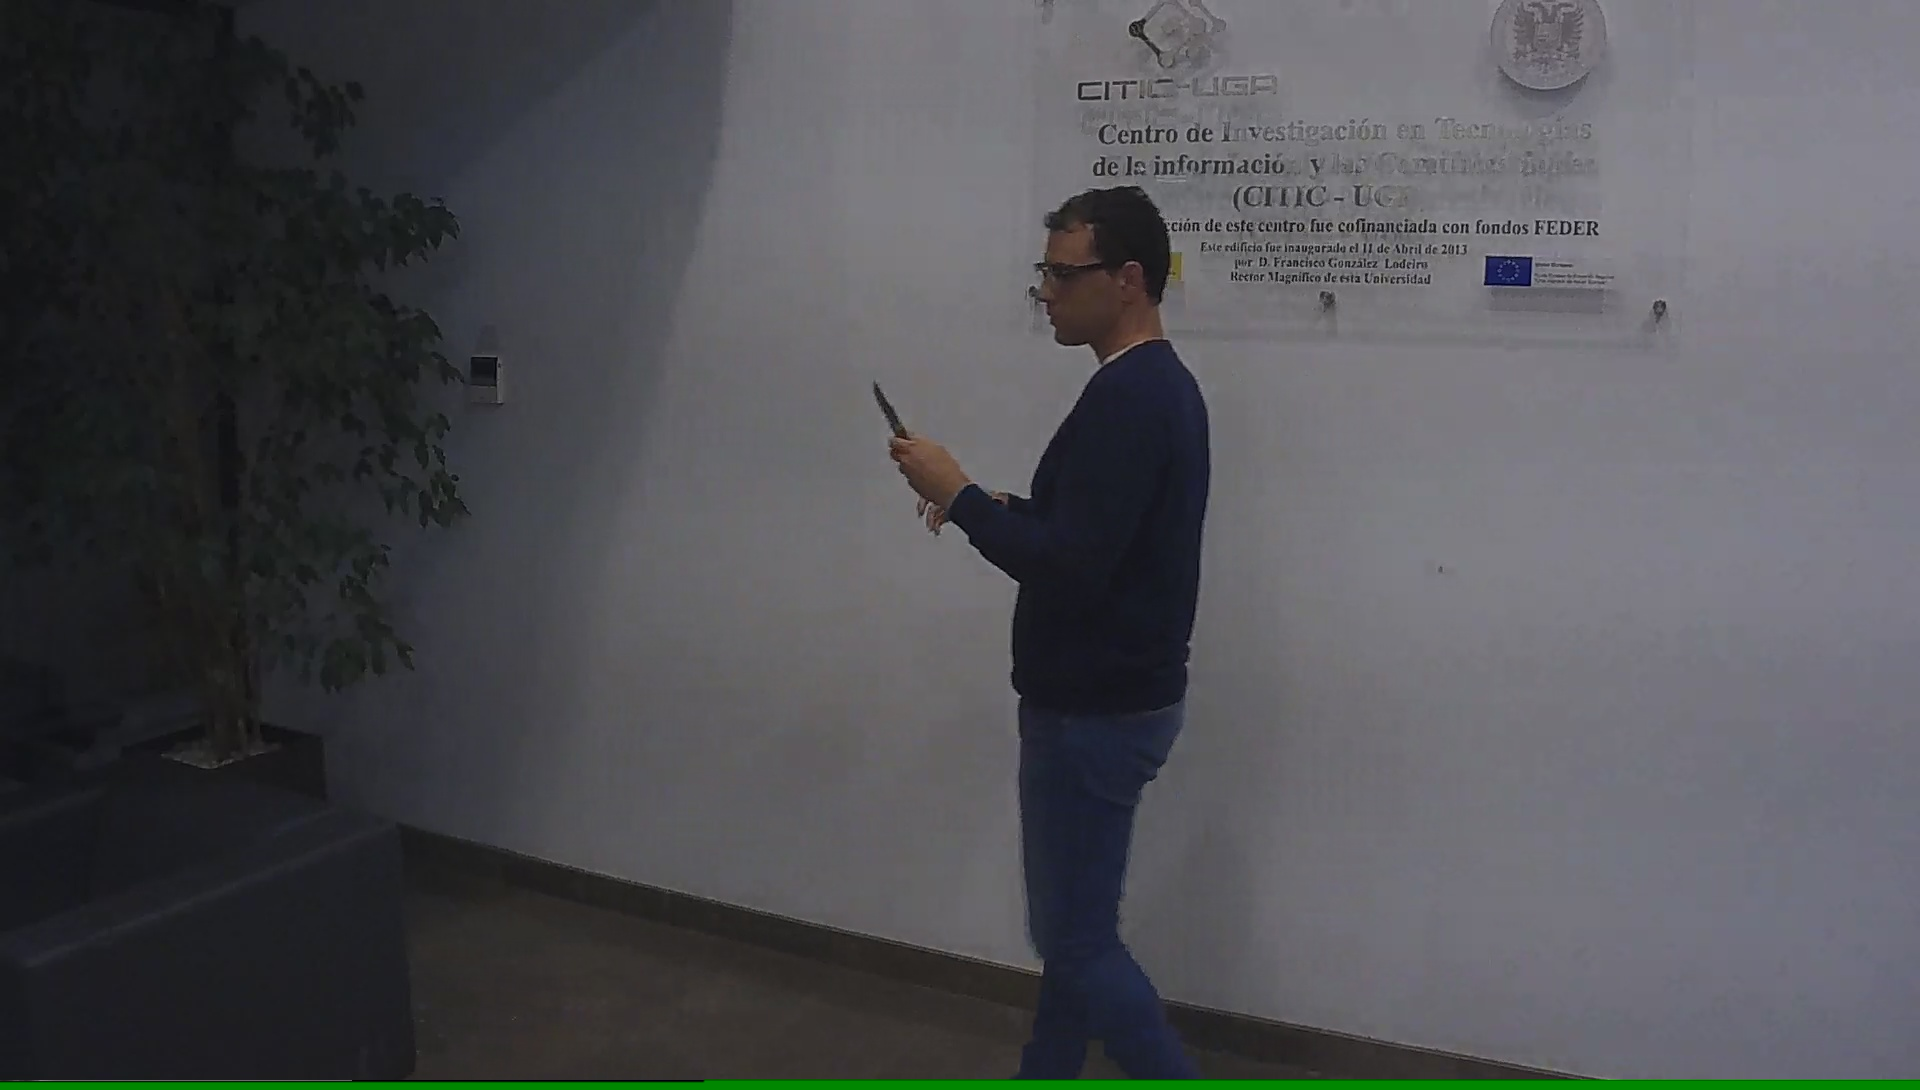knife: (861, 366, 934, 474)
